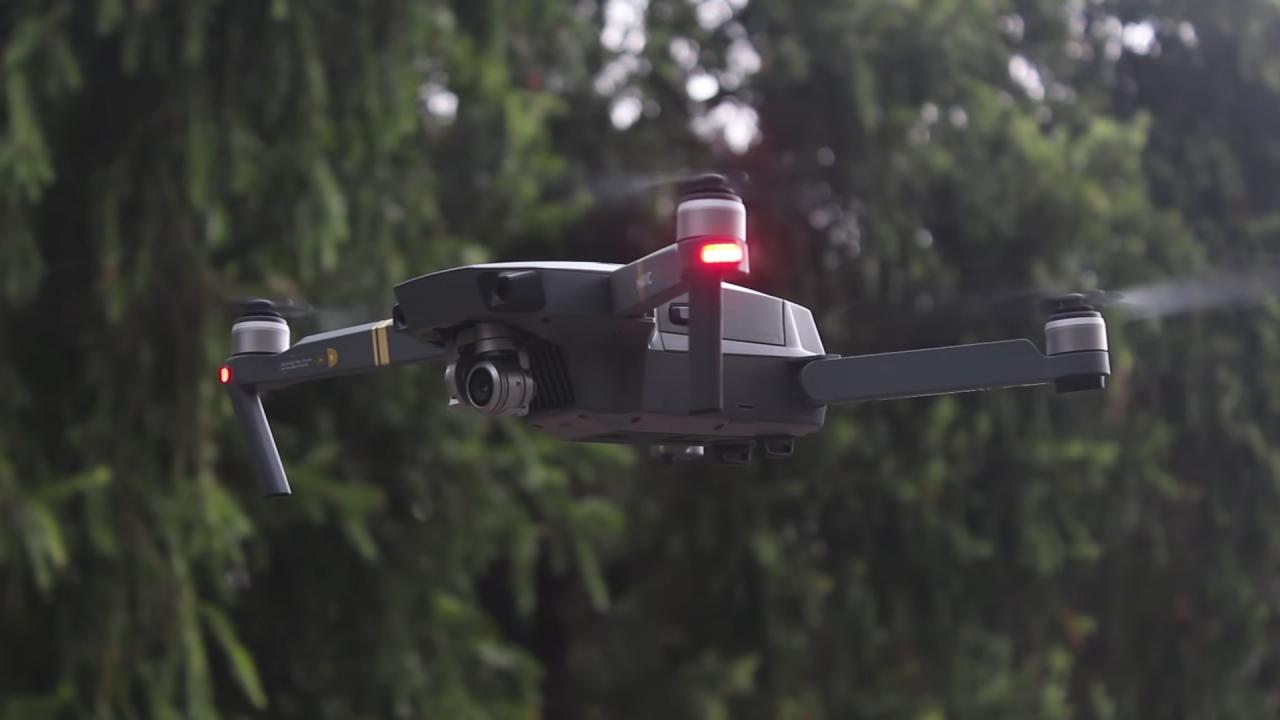Drone: (143, 140, 1280, 512)
